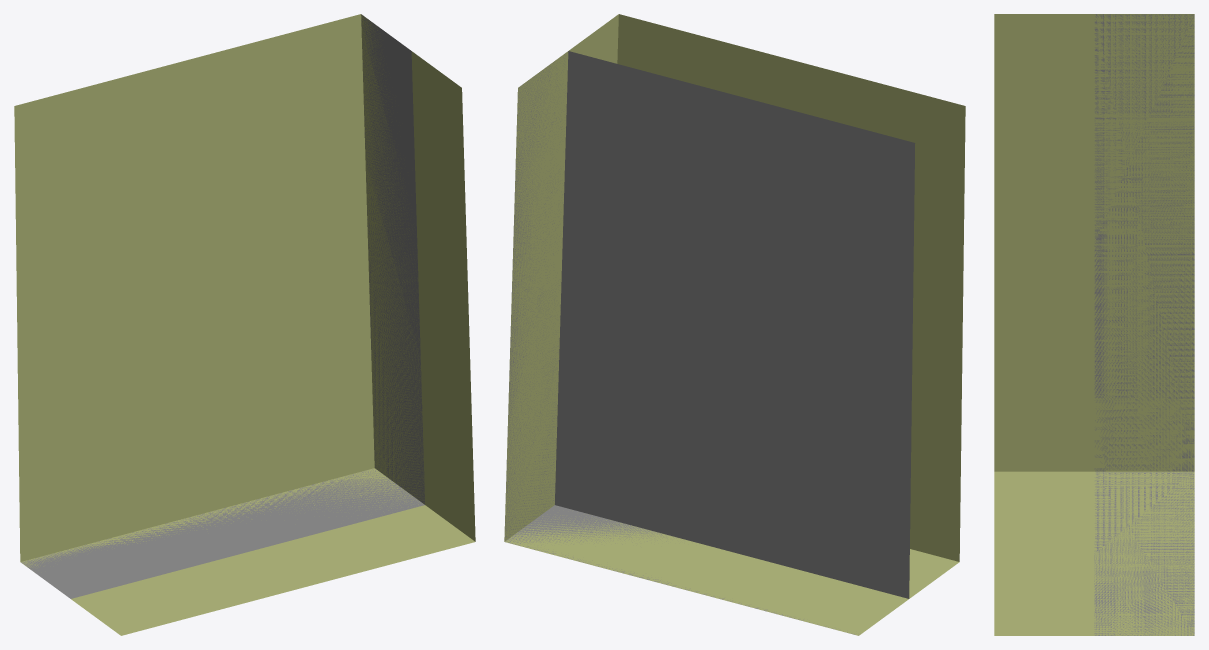
3 views of the same model, side by side, from view 1: azimuth 30°, elevation 25°; view 2: azimuth 150°, elevation 25°; view 3: azimuth 270°, elevation 25° (orthographic).
Visible parts, largest first — view 1: 0_1_2_0_3_3_1_0_1_2; view 2: 0_1_2_0_3_3_1_0_1_2; view 3: 0_1_2_0_3_3_1_0_1_2.
Boxes of the visible parts, x1,y1,x2,y2 form: 0_1_2_0_3_3_1_0_1_2: [14, 14, 475, 635]; 0_1_2_0_3_3_1_0_1_2: [504, 14, 965, 635]; 0_1_2_0_3_3_1_0_1_2: [994, 14, 1194, 635].
Bounding box in the file's own units: 12.37 × 15.25 × 6.
